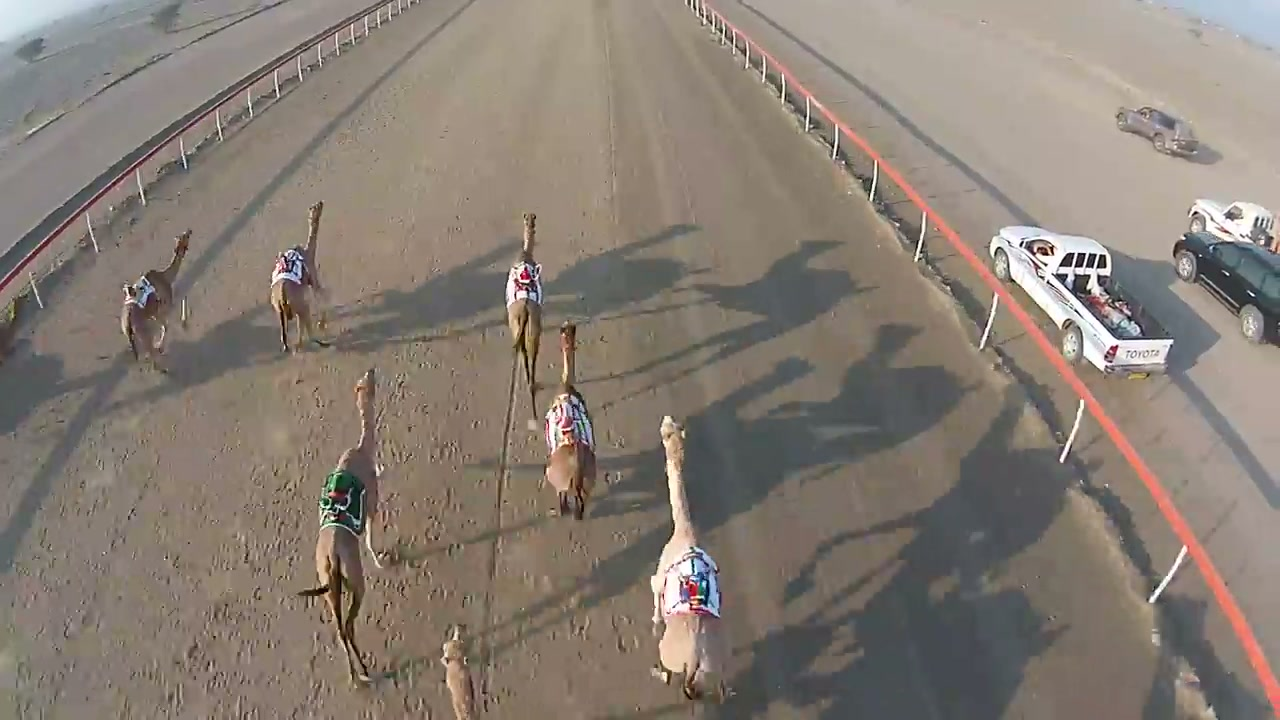animal_foot_print: (148, 344, 324, 718), (2, 366, 206, 682), (457, 446, 649, 697), (373, 330, 479, 718)
